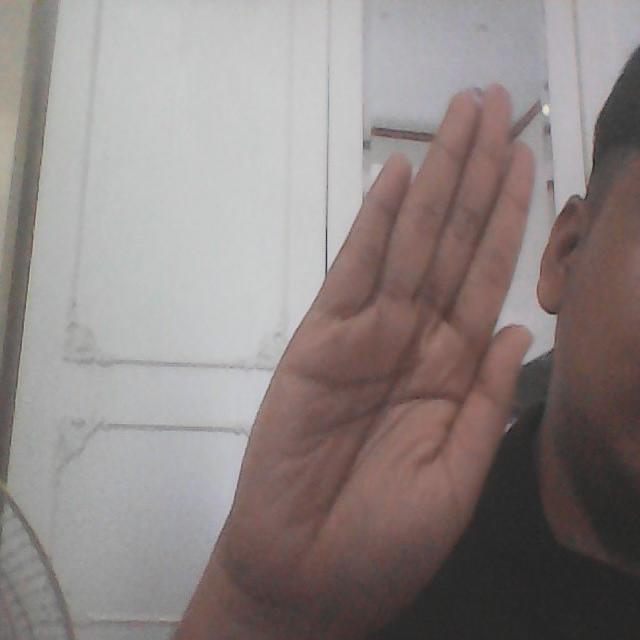hand: (236, 60, 530, 640)
